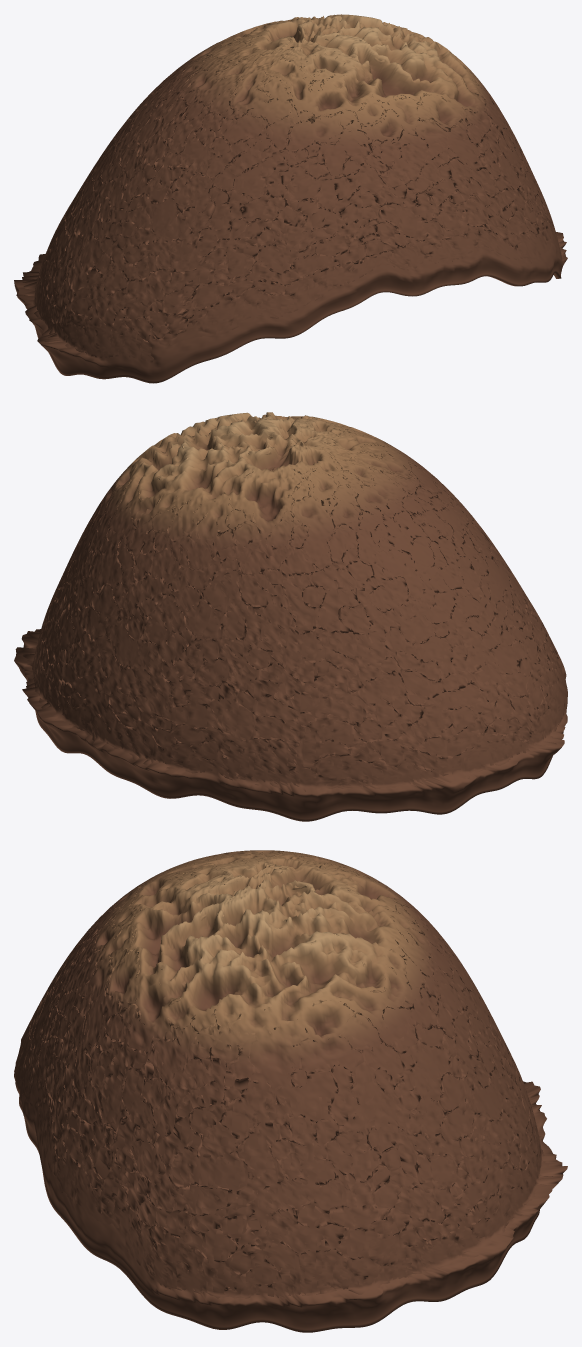
File: Ombre-7715271c244e253-hair.glb
3 renders of one model, top to bottom at view 1: azimuth 30°, elevation 25°; view 2: azimuth 150°, elevation 25°; view 3: azimuth 270°, elevation 25°, orthographic. The views are drawn at different scales.
Parts seen in each view (by area): view 1: 226 hair / Hair252 / dense natural coil groups.001; view 2: 226 hair / Hair252 / dense natural coil groups.001; view 3: 226 hair / Hair252 / dense natural coil groups.001.
Part boxes in pixels (x1,y1,x2,y2): 226 hair / Hair252 / dense natural coil groups.001: (14,14,567,383); 226 hair / Hair252 / dense natural coil groups.001: (14,412,567,821); 226 hair / Hair252 / dense natural coil groups.001: (14,850,567,1332).
Bounding box in the file's own units: 1.04 × 0.5335 × 0.8065.
Materials: 1 (1 with a texture image).
